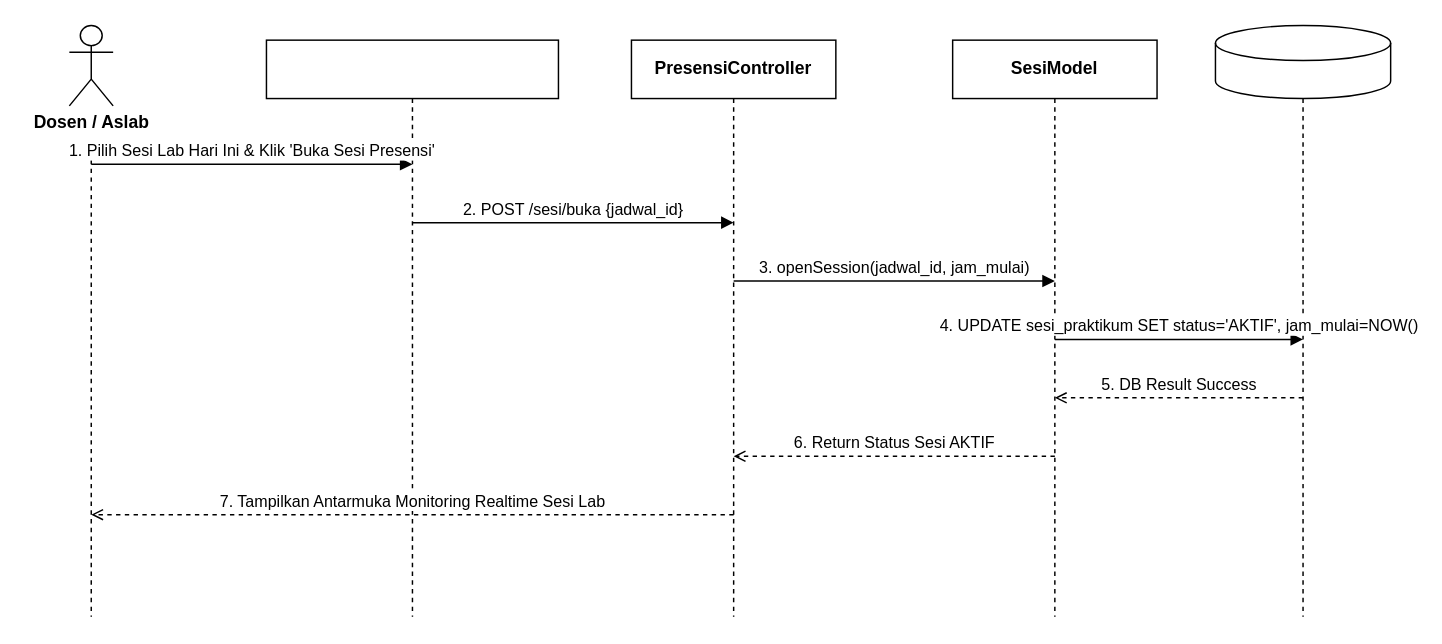
This 1442x644 diagram has some shape labels left out. Here are the shapes that lost their labels. From the top down, the centre of each, then its label:
the point at 411,69: View (sesi_praktikum.php)
the point at 1302,61: Database MySQL
